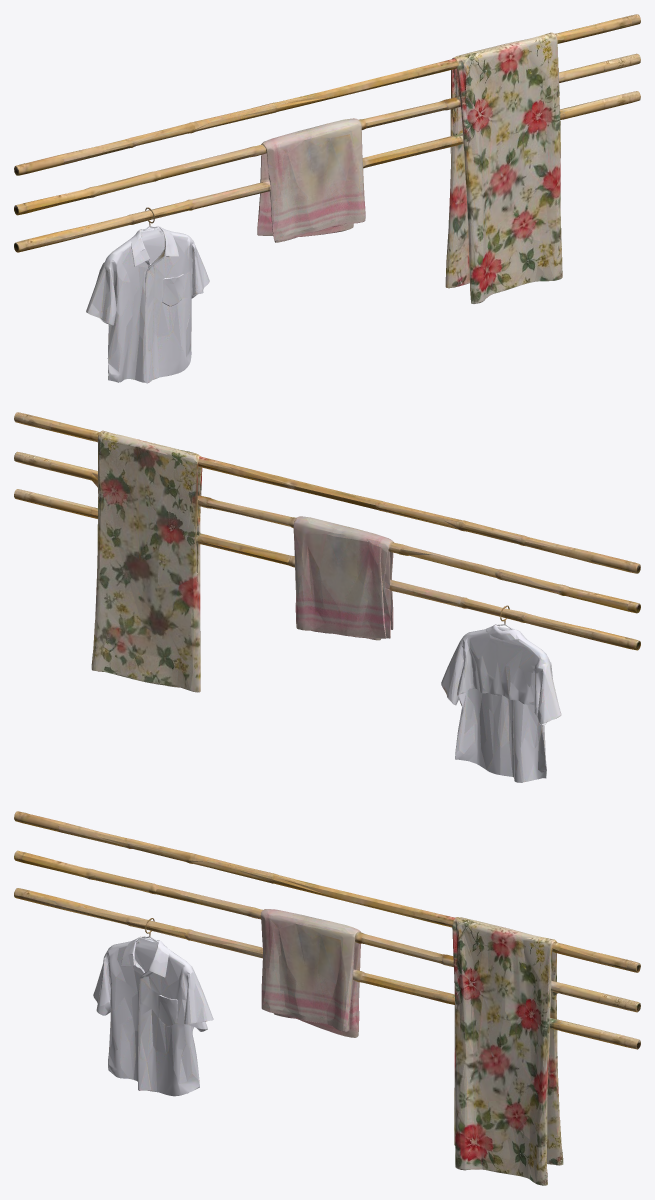
Rendered from w4poles.glb.
3 renders of one model, top to bottom at view 1: azimuth 30°, elevation 25°; view 2: azimuth 150°, elevation 25°; view 3: azimuth 330°, elevation 25°, orthographic.
Visible parts, largest first — view 1: output_unwrapped; view 2: output_unwrapped; view 3: output_unwrapped.
Boxes of the visible parts, box(x1,y1,x2,y2) form: output_unwrapped: box(14, 14, 640, 383); output_unwrapped: box(14, 412, 640, 782); output_unwrapped: box(14, 811, 640, 1185).
Bounding box in the file's own units: 2.4 × 0.9127 × 0.1433.
1 material, 1 textured.
